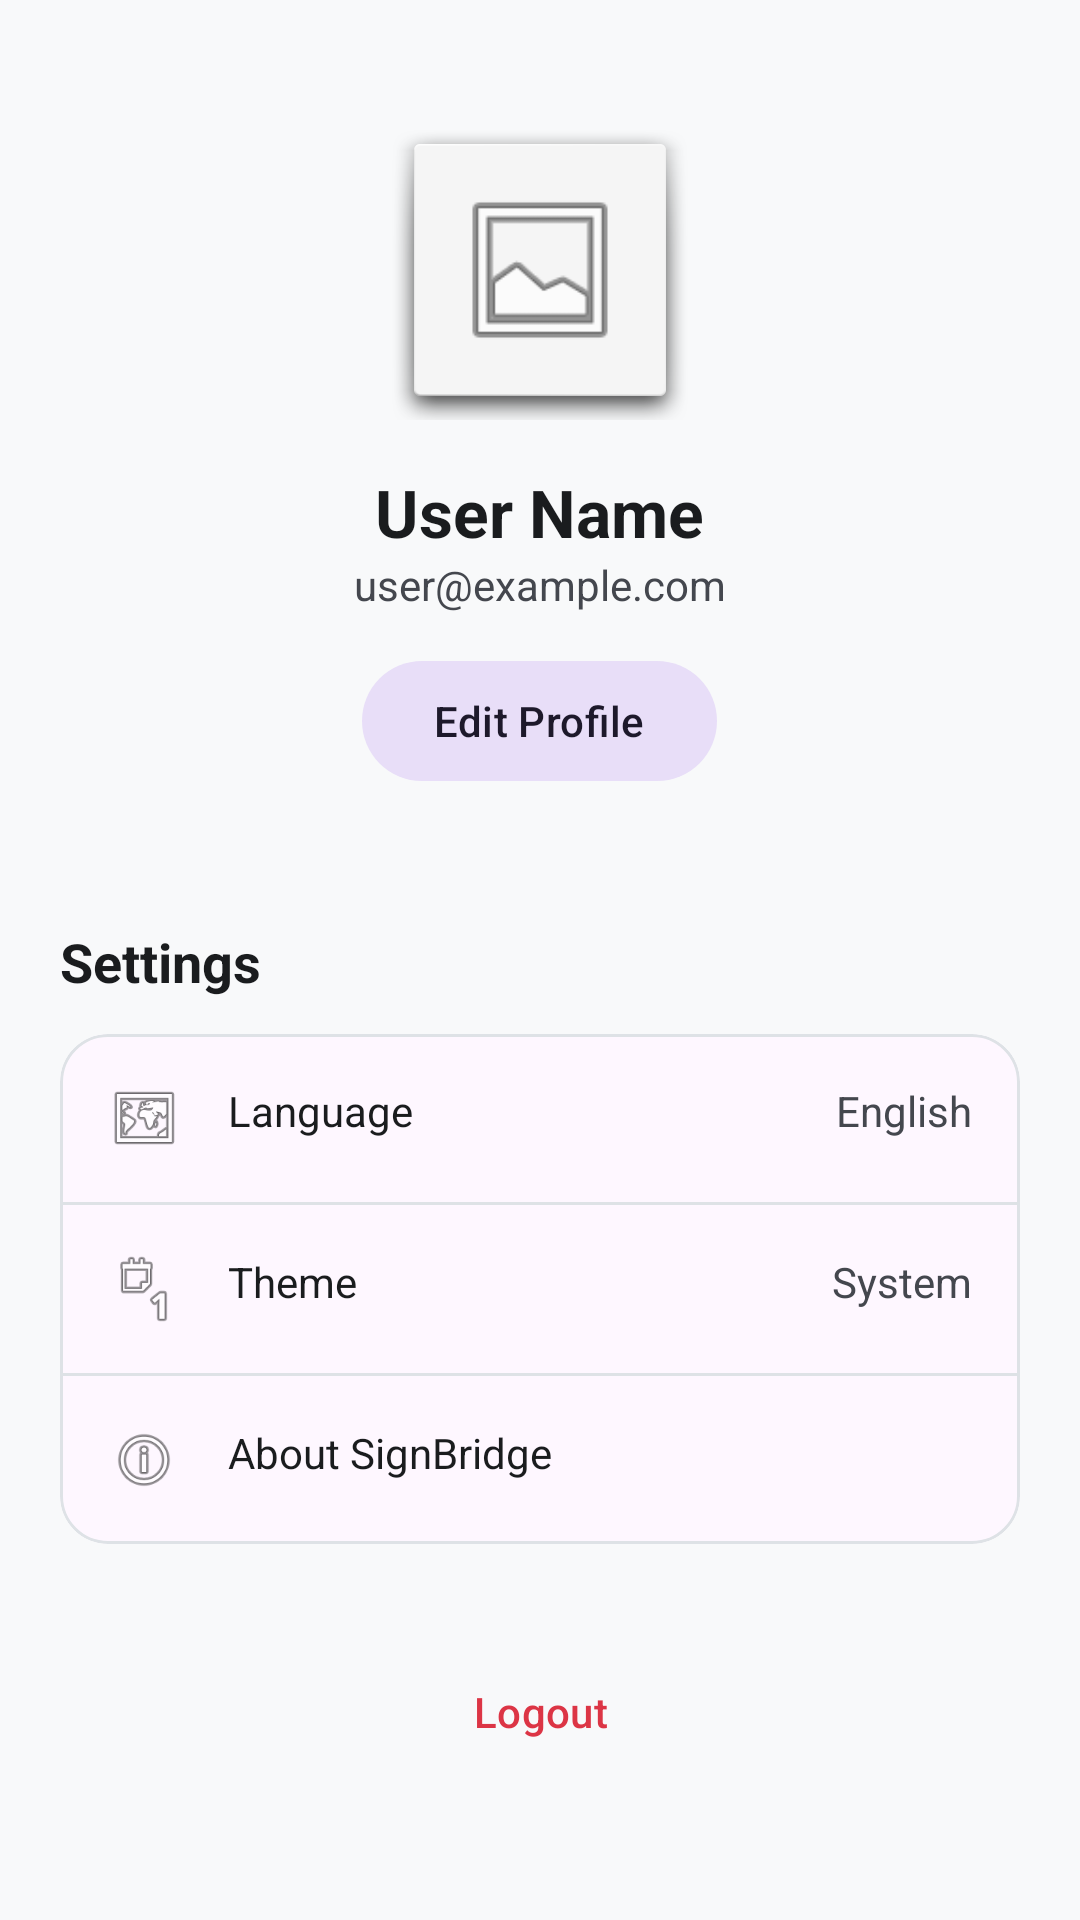

Locate icon controls on the screen. Image size 1080x1920, boxes as (x1=x1, y1=y1, x2=x2, y2=y2).
day: (x1=120, y1=1257, x2=167, y2=1321)
gallery: (x1=402, y1=140, x2=678, y2=416)
info details: (x1=118, y1=1434, x2=170, y2=1486)
mapmode: (x1=114, y1=1092, x2=174, y2=1144)
